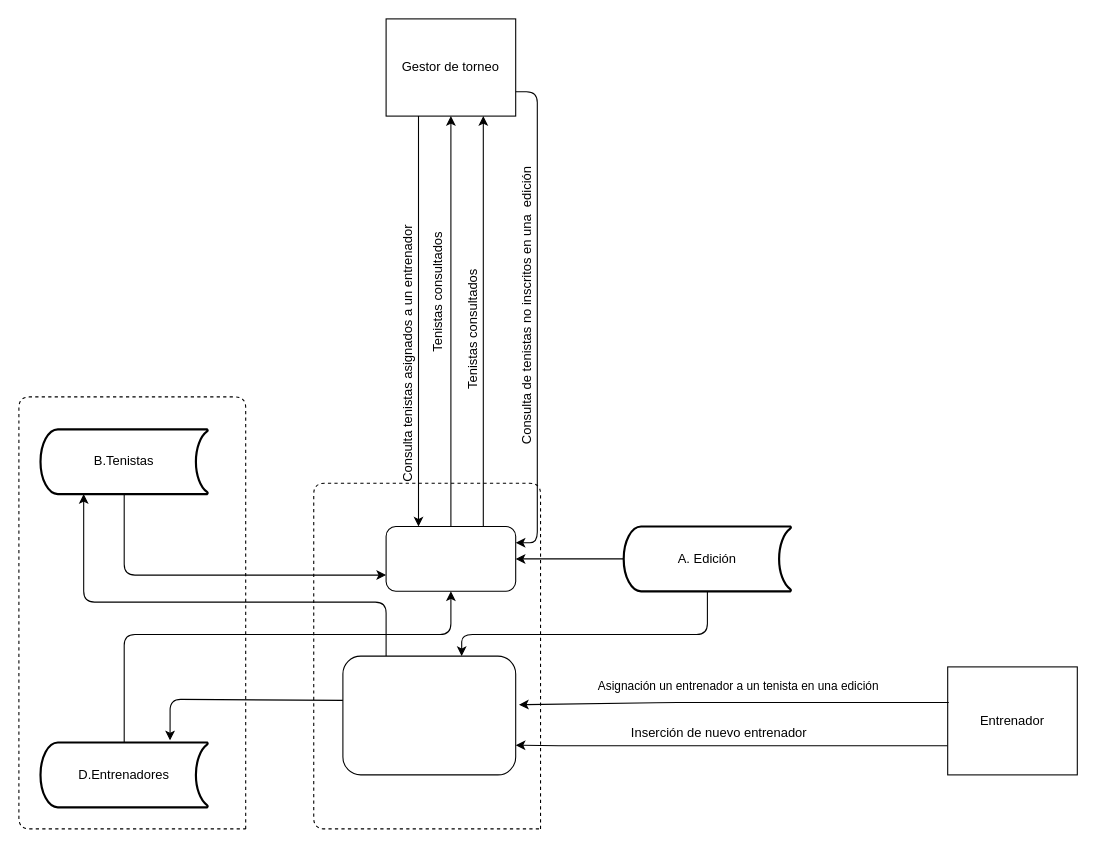
Image size: 1096x849. Some labels were removed from this diagram. The box of each missing label's shape, as (x1, y1, x2, y2) in pixels:
2.1 Consultas de tenistas: (385, 525, 516, 591)
2.2 Insertar datos de entrenadores y tenistas: (342, 655, 516, 775)
